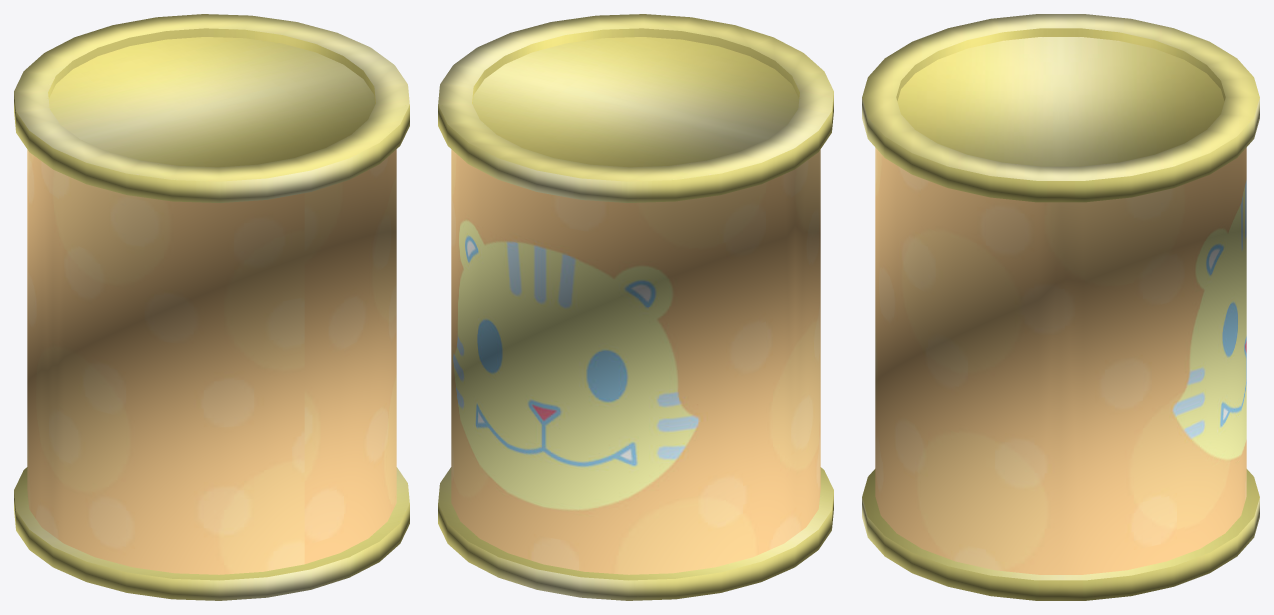
Rendered from Jar3.glb.
The picture shows the model from 3 angles, left to right: view 1: azimuth 30°, elevation 25°; view 2: azimuth 150°, elevation 25°; view 3: azimuth 270°, elevation 25°; orthographic projection.
Visible parts, largest first — view 1: jar; view 2: jar; view 3: jar.
Boxes of the visible parts, <box> form: jar: <box>14,14,409,600</box>; jar: <box>438,14,833,600</box>; jar: <box>862,14,1259,600</box>.
Size of the model in its own units: 1.33 by 1.56 by 1.34.
1 material, 1 textured.
